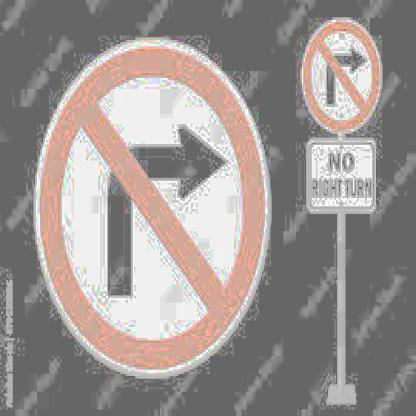No right turn: (24, 36, 271, 372), (298, 5, 385, 136)
